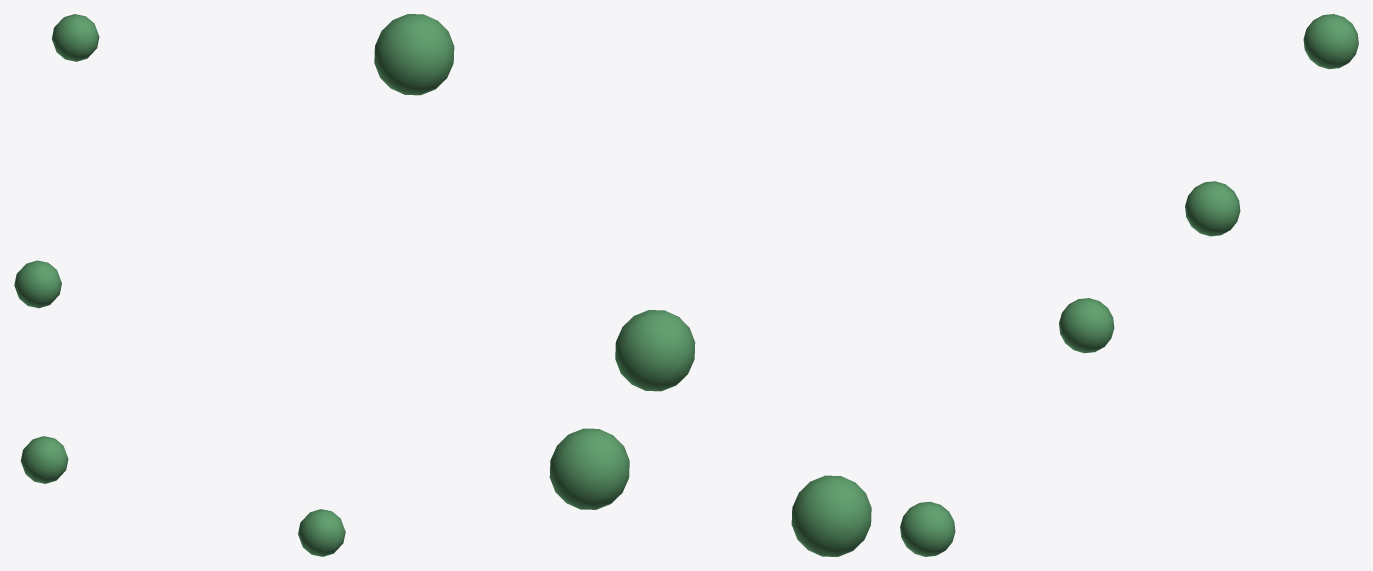
3 views of the same model, side by side, from view 1: azimuth 30°, elevation 25°; view 2: azimuth 150°, elevation 25°; view 3: azimuth 270°, elevation 25° (orthographic). The views are drawn at different scales.
Visible parts, largest first — view 1: 骶正中淋巴结; view 2: 骶正中淋巴结; view 3: 骶正中淋巴结.
Boxes of the visible parts, box(x1,y1,x2,y2) form: 骶正中淋巴结: box(14, 14, 345, 556); 骶正中淋巴结: box(374, 14, 871, 556); 骶正中淋巴结: box(900, 14, 1358, 556).
Size of the model in its own units: 0.023 by 0.0378 by 0.0316.
